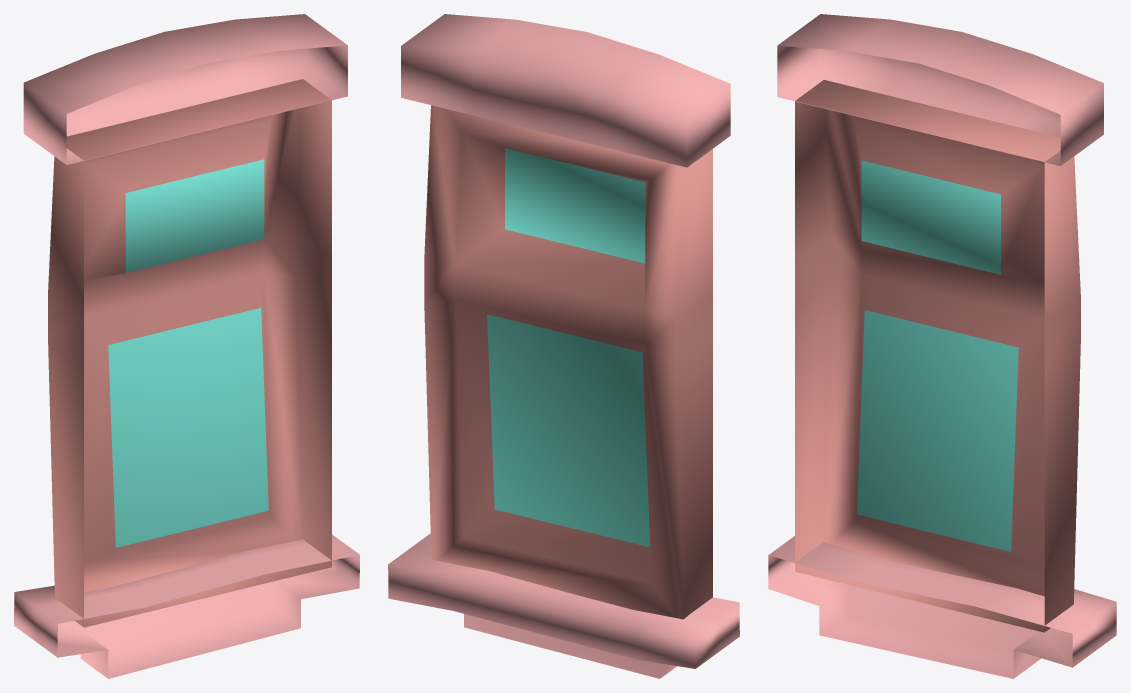
Rendered from Building_B_2.fbx.
The picture shows the model from 3 angles, left to right: view 1: azimuth 30°, elevation 25°; view 2: azimuth 150°, elevation 25°; view 3: azimuth 330°, elevation 25°; orthographic projection.
Parts seen in each view (by area): view 1: Building_B_2; view 2: Building_B_2; view 3: Building_B_2.
Part boxes in pixels (x1,y1,x2,y2): Building_B_2: [14, 14, 359, 678]; Building_B_2: [388, 14, 739, 678]; Building_B_2: [768, 14, 1116, 678].
Size of the model in its own units: 88.59 by 166 by 22.14.
